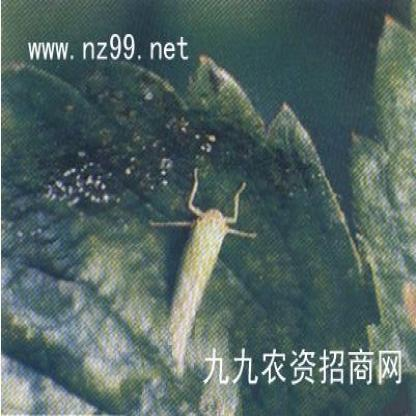Green-Leafhopper: (151, 160, 256, 376)
